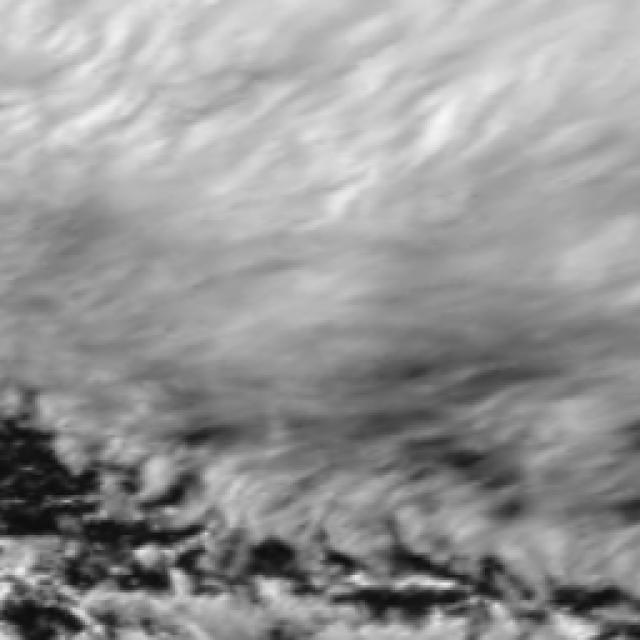CB: (2, 0, 640, 205)
